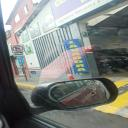NoEstacionar: (6, 43, 31, 59)
